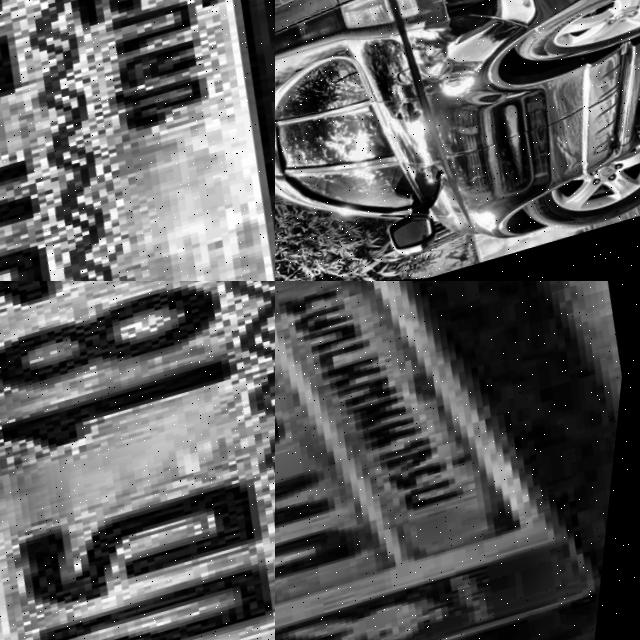license-plate: (275, 281, 640, 640), (0, 281, 275, 640), (0, 0, 275, 281)
